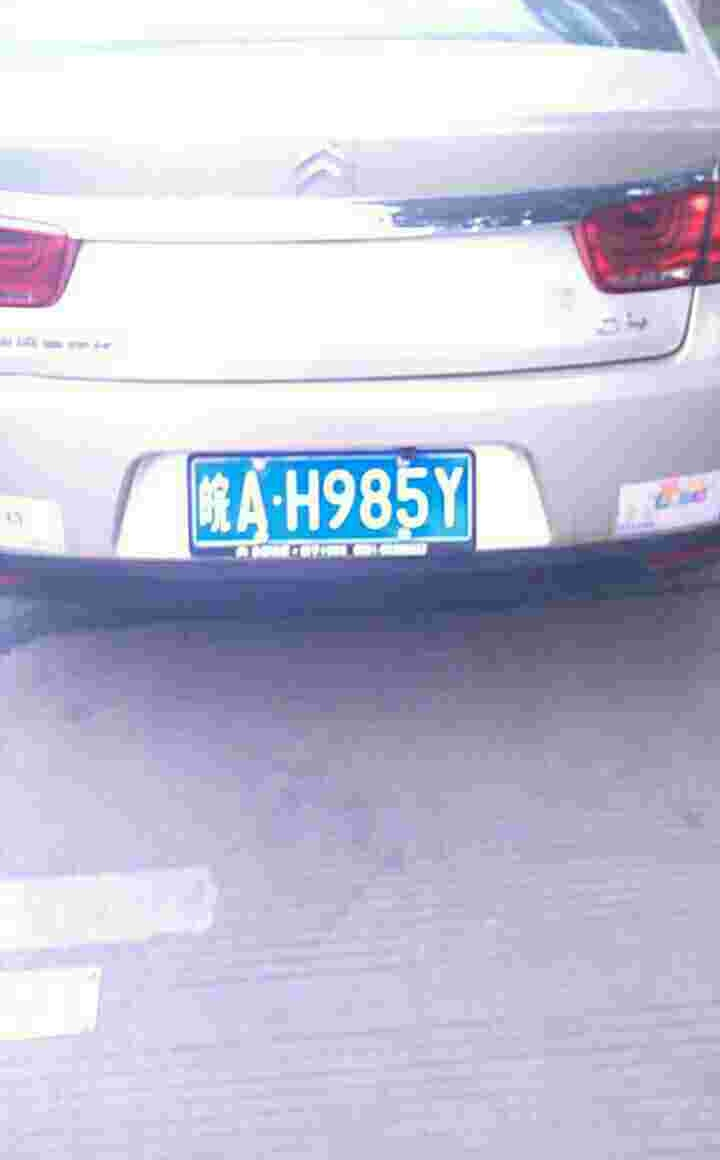license_plate: (186, 447, 477, 556)
